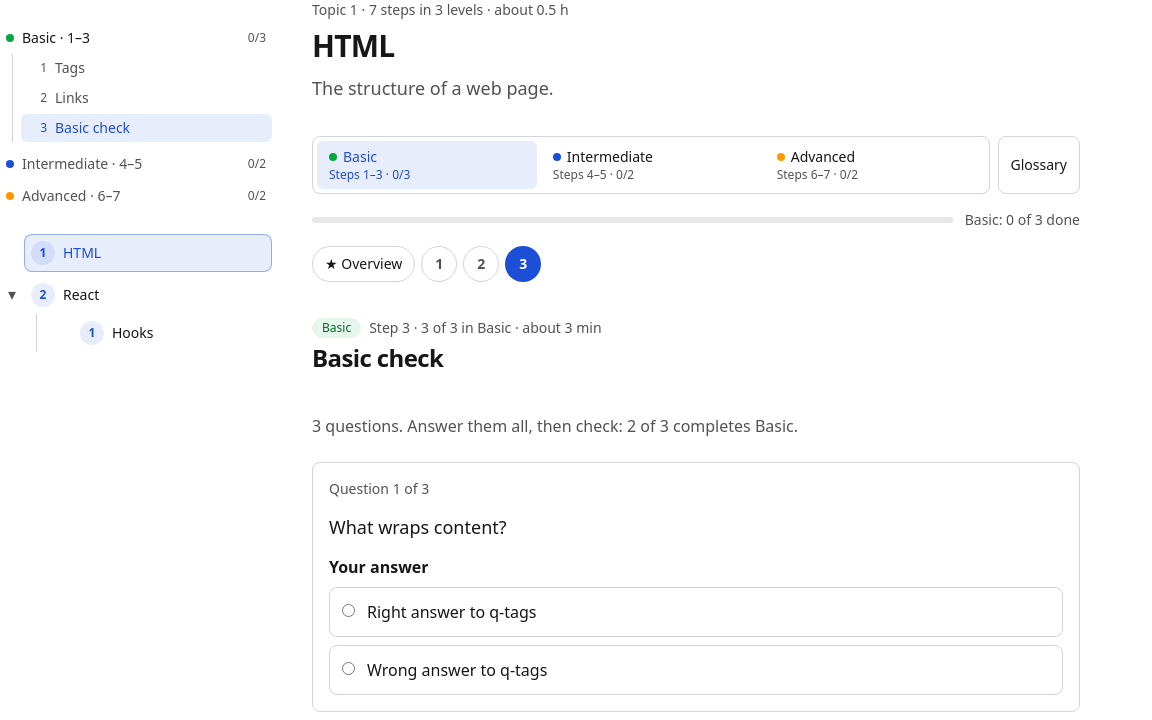
it: LevelCheck › asks every question and checks only once all are answered
The image size is (1152, 720).
expect the text "What wraps content?" is shown: met, box [329, 515, 507, 539]
expect the text "3 questions. Answer them all, then check: 2 of 3 completes Basic." is shown: met, box [312, 415, 798, 437]
Click the radio button labelled "Right answer to q-tags".
click(348, 610)  # box [342, 604, 355, 617]
(page scrolled)
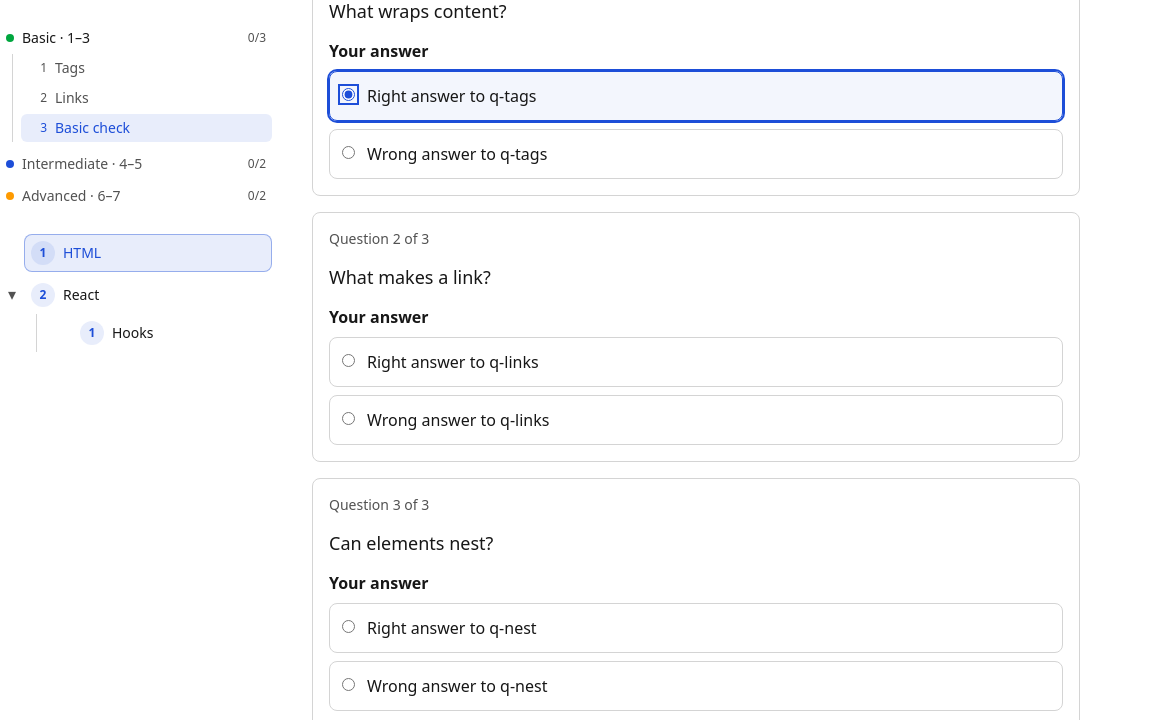
Click the radio button labelled "Right answer to q-links".
click(348, 360)  # box [342, 354, 355, 367]
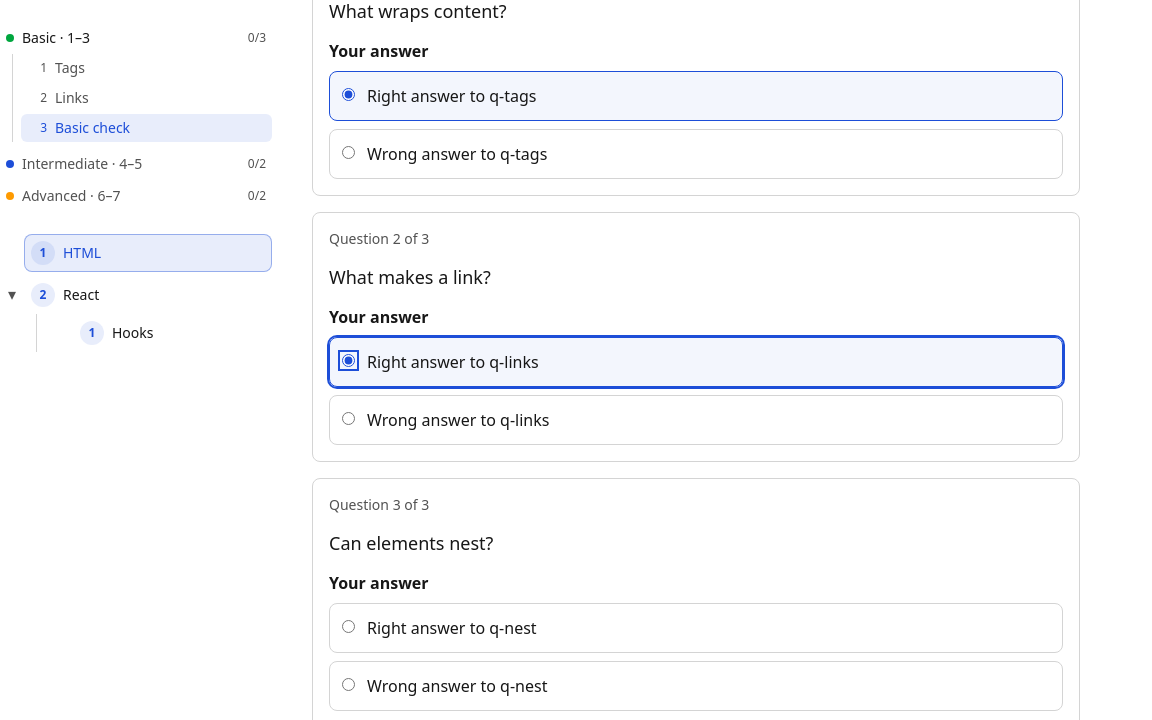
Click the radio button labelled "Right answer to q-tags".
click(348, 94)  # box [342, 88, 355, 101]
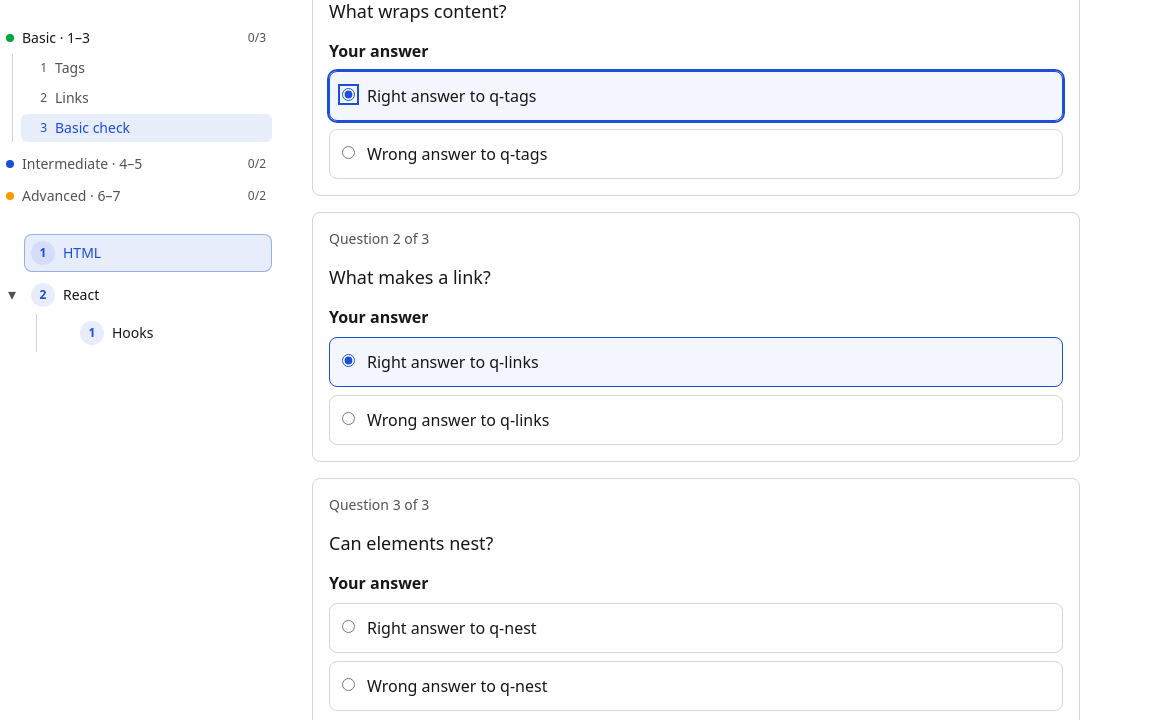
Click the radio button labelled "Right answer to q-links".
click(348, 360)  # box [342, 354, 355, 367]
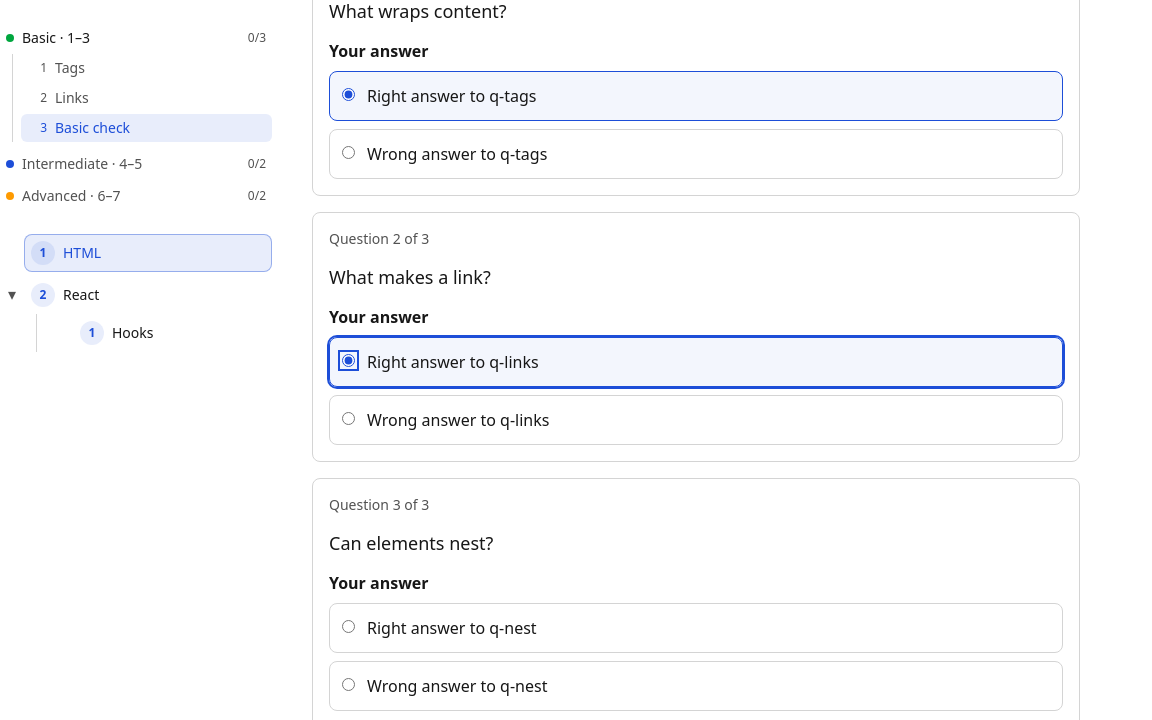
Click the radio button labelled "Wrong answer to q-nest".
click(348, 684)  # box [342, 678, 355, 691]
(page scrolled)
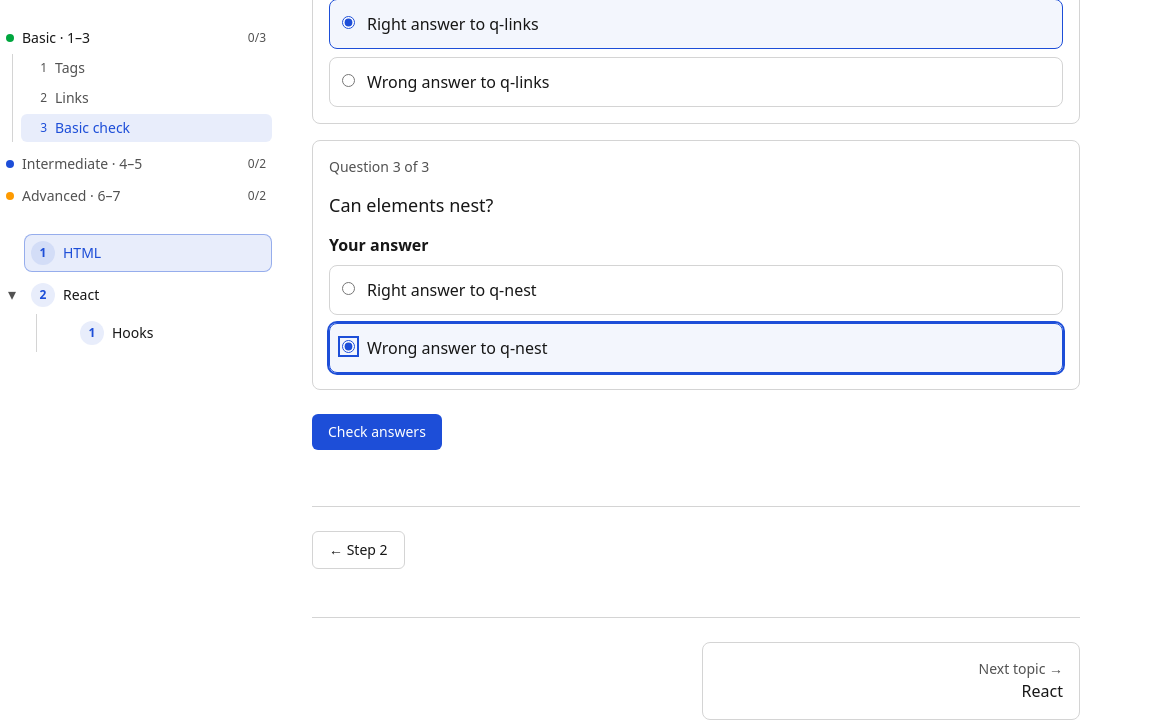
expect the button "Check answers" is enabled: met, box [312, 414, 442, 450]
